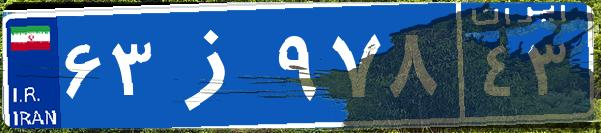3: (110, 28, 158, 105), (525, 38, 570, 115)
4: (475, 38, 525, 113)
6: (57, 26, 110, 107)
7: (330, 28, 385, 110)
8: (385, 28, 445, 110)
9: (273, 28, 330, 110)
ز: (158, 15, 273, 115)
